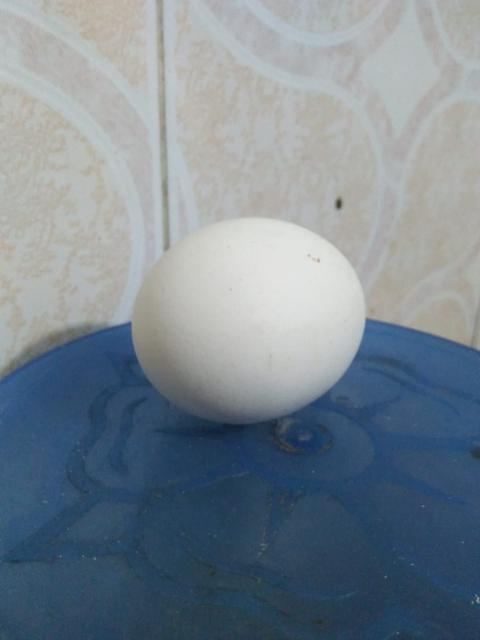Sano: (130, 215, 366, 426)
